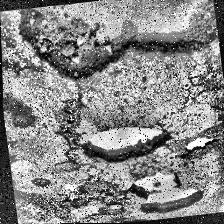pothole: (14, 0, 222, 88), (76, 120, 174, 170), (122, 166, 206, 218), (184, 133, 216, 155), (107, 216, 147, 224)
